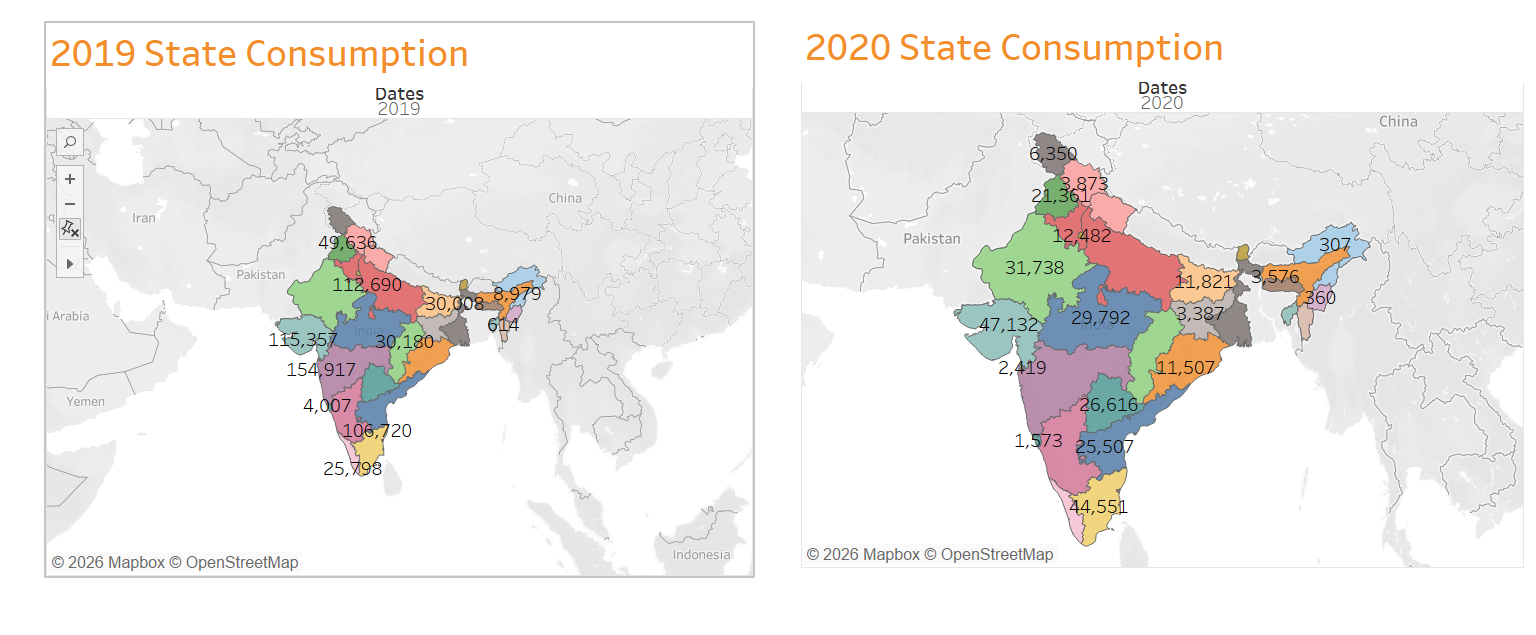

The dashboard page shown, as its layout file describes it:
{"tool":"tableau","page":{"name":" Dashboard 1","canvas":[1000,1000],"units":"permille","ordinal":0},"visuals":[{"type":"worksheet","title":"2020 State Consumption","mark":"Multipolygon","cols":["Dates"],"box":[502.4,33.5,450.7,738.6]},{"type":"worksheet","title":"2019 State Consumption","mark":"Multipolygon","rows":["latitude"],"cols":["Dates","longitude"],"box":[31.9,41.6,440.5,741.3]}]}

Visuals, with their boxes on the dashboard's canvas, which has no fixed pixel size, in thousandths of its width and height (x1, y1, x2, y2). These are canvas units, not pixel positions in the 1536x635 screenshot, which may show the page scaled, cropped or inside an application window:
"2020 State Consumption" worksheet (Multipolygon marks): 502 34 953 772
"2019 State Consumption" worksheet (Multipolygon marks): 32 42 472 783
